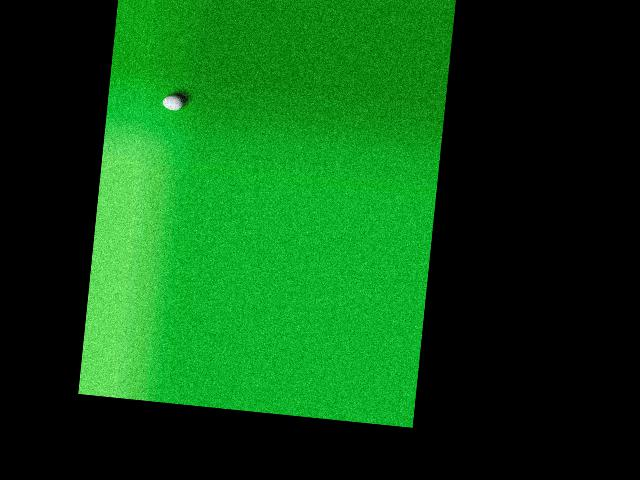egg: (162, 94, 184, 111)
